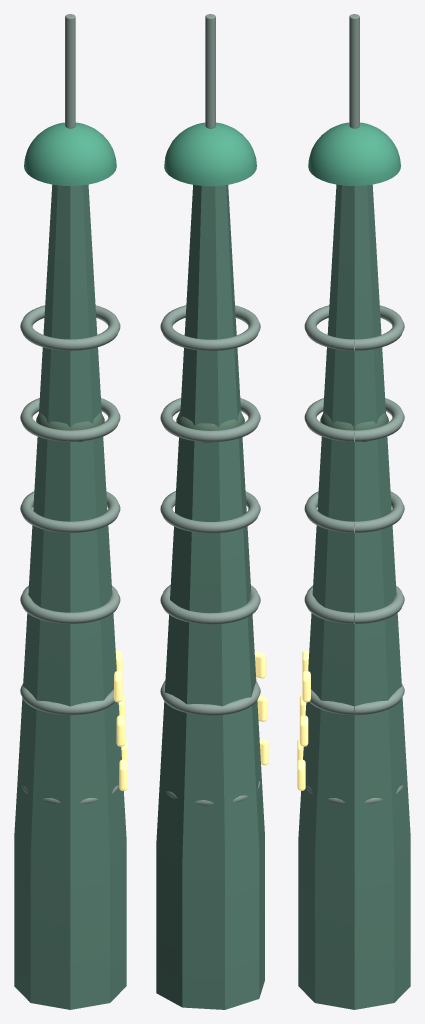
3 renders of one model, left to right at view 1: azimuth 90°, elevation 25°; view 2: azimuth 150°, elevation 25°; view 3: azimuth 270°, elevation 25°, orthographic.
Visible parts, largest first — view 1: Tapered spire, Sensor pickup cap, Sensor mast collar.007, Sensor mast collar.006, Sensor mast collar.005, Sensor mast collar.004, Aerial stem, Sensor mast collar.003, Spire collar, Inset service window.002; view 2: Tapered spire, Sensor pickup cap, Sensor mast collar.007, Sensor mast collar.006, Sensor mast collar.005, Sensor mast collar.004, Aerial stem, Sensor mast collar.003, Spire collar, Inset service window.004; view 3: Tapered spire, Sensor pickup cap, Sensor mast collar.007, Sensor mast collar.006, Sensor mast collar.005, Sensor mast collar.004, Aerial stem, Sensor mast collar.003, Spire collar, Inset service window.003.
Boxes of the visible parts, box(x1,y1,x2,y2) form: Tapered spire: box(14, 184, 126, 1009); Sensor pickup cap: box(24, 122, 116, 186); Sensor mast collar.007: box(20, 305, 120, 350); Sensor mast collar.006: box(20, 398, 120, 441); Sensor mast collar.005: box(20, 491, 120, 532); Sensor mast collar.004: box(20, 585, 120, 623); Aerial stem: box(65, 14, 75, 128); Sensor mast collar.003: box(20, 683, 115, 715); Spire collar: box(36, 413, 104, 441); Inset service window.002: box(116, 715, 125, 746); Tapered spire: box(156, 185, 264, 1009); Sensor pickup cap: box(164, 122, 256, 186); Sensor mast collar.007: box(160, 305, 260, 350); Sensor mast collar.006: box(160, 398, 260, 442); Sensor mast collar.005: box(160, 491, 260, 533); Sensor mast collar.004: box(160, 585, 260, 624); Aerial stem: box(205, 14, 215, 128); Sensor mast collar.003: box(160, 681, 260, 715); Spire collar: box(176, 410, 244, 442); Inset service window.004: box(254, 651, 266, 678); Tapered spire: box(298, 184, 410, 1009); Sensor pickup cap: box(308, 122, 400, 186); Sensor mast collar.007: box(304, 305, 404, 350); Sensor mast collar.006: box(304, 398, 404, 441); Sensor mast collar.005: box(304, 491, 404, 532); Sensor mast collar.004: box(304, 585, 404, 623); Aerial stem: box(349, 14, 359, 128); Sensor mast collar.003: box(309, 683, 404, 715); Spire collar: box(320, 413, 388, 441); Inset service window.003: box(299, 715, 308, 746).
Bounding box in the file's own units: 0.46 × 4.38 × 0.4649.
